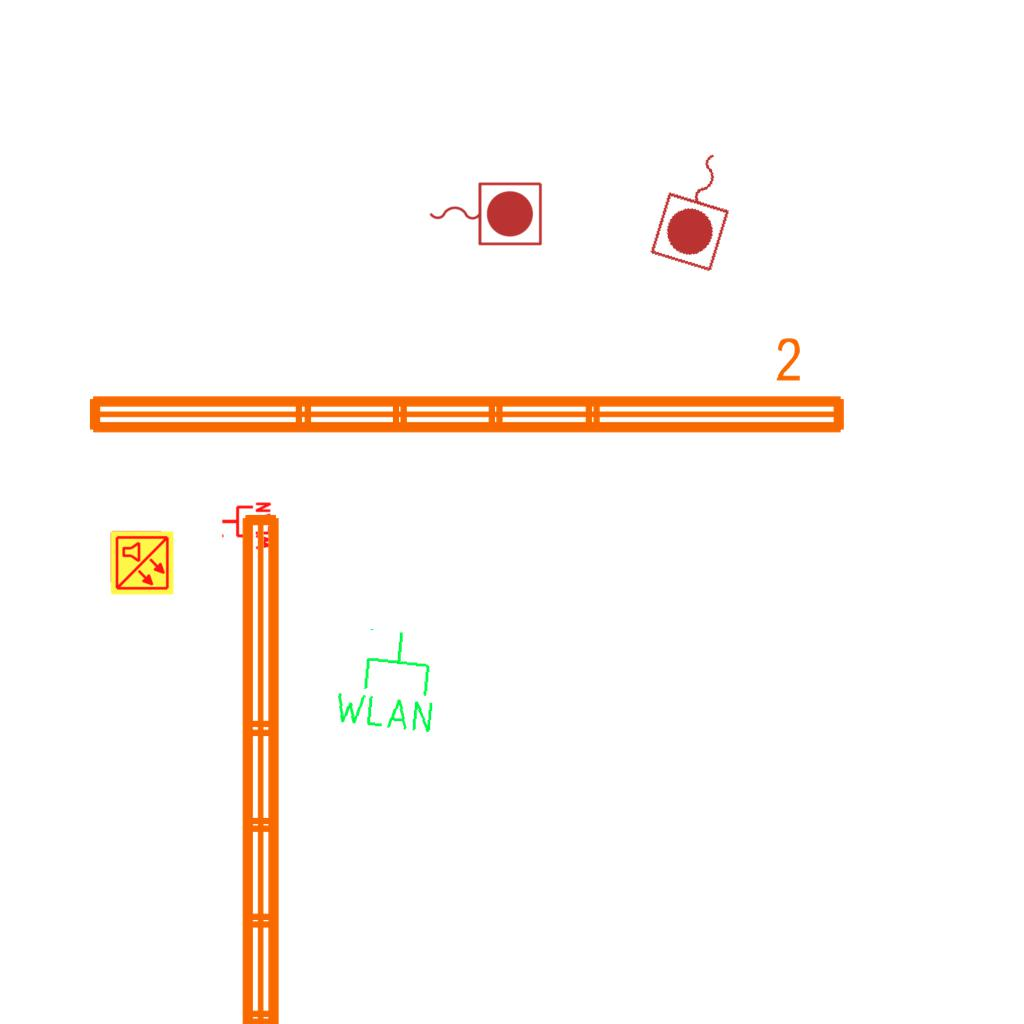Ambulanz_Pendelleuchte_LED: (79, 333, 853, 445), (230, 504, 342, 1024)
OKW_Multisensormelder_(Kombination_optischer_Rauch-Kahlenmonoxid_Waerme-Melder): (109, 530, 175, 596)
WLAN: (329, 622, 445, 737), (220, 500, 272, 552)
Zugtaster: (645, 139, 751, 277), (424, 177, 546, 249)
